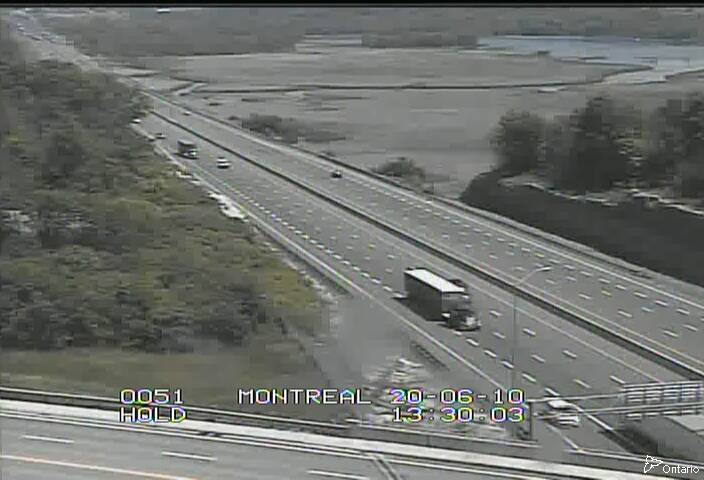time_stamp: (386, 405, 528, 428), (386, 385, 527, 406)
